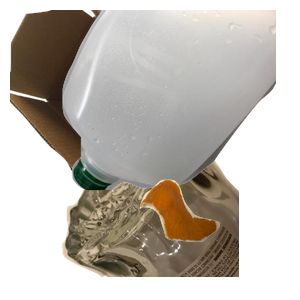cardboard: (10, 10, 218, 190)
glass: (60, 120, 300, 300)
plastic: (60, 10, 300, 190)
trash: (137, 177, 300, 300)
